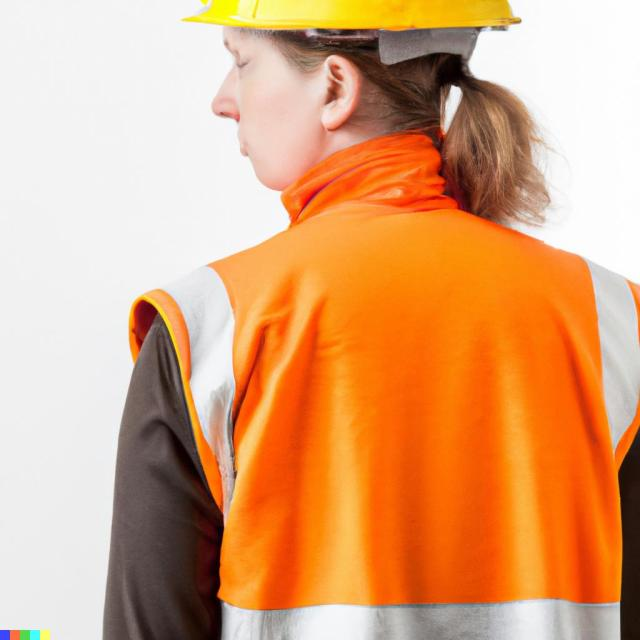Reflective-Jacket: (143, 158, 640, 638)
Safety-Helmet: (185, 0, 526, 39)
